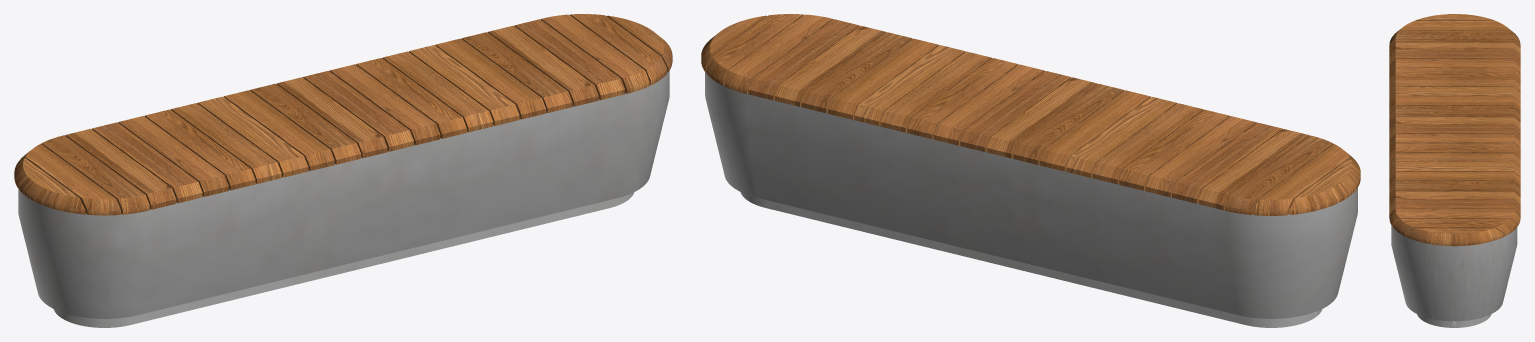
3 views of the same model, side by side, from view 1: azimuth 30°, elevation 25°; view 2: azimuth 150°, elevation 25°; view 3: azimuth 270°, elevation 25° (orthographic). The views are drawn at different scales.
Visible parts, largest first — view 1: G-Difference, G-Difference.004; view 2: G-Difference, G-Difference.004; view 3: G-Difference.004, G-Difference.
Boxes of the visible parts, left/top/right/bottom form: G-Difference: left=18, top=71, right=669, bottom=327; G-Difference.004: left=14, top=14, right=672, bottom=215; G-Difference: left=705, top=72, right=1357, bottom=327; G-Difference.004: left=701, top=14, right=1360, bottom=215; G-Difference.004: left=1389, top=14, right=1520, bottom=246; G-Difference: left=1391, top=225, right=1517, bottom=327.
Bounding box in the file's own units: 2.12 × 0.4498 × 0.52.
2 materials, 2 textured.
